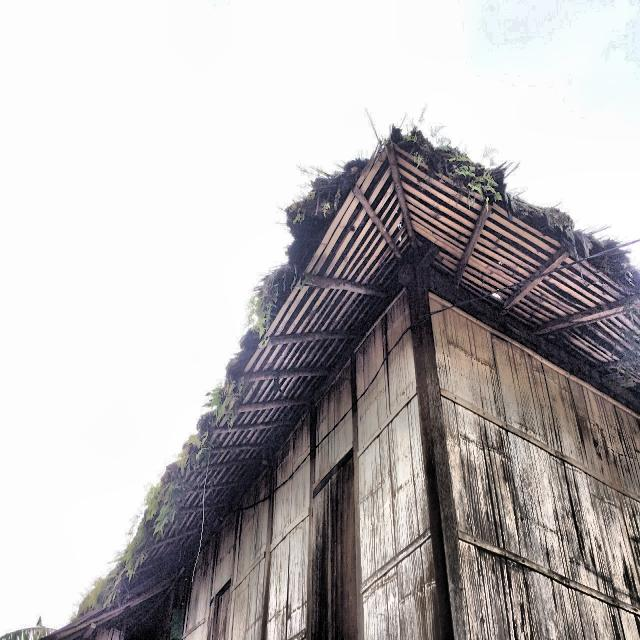roof: (57, 129, 640, 637)
wall: (184, 288, 443, 639), (429, 296, 640, 639)
window: (310, 456, 358, 639), (206, 585, 230, 639)
